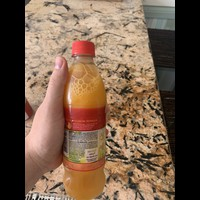maguary: (59, 35, 110, 199)
